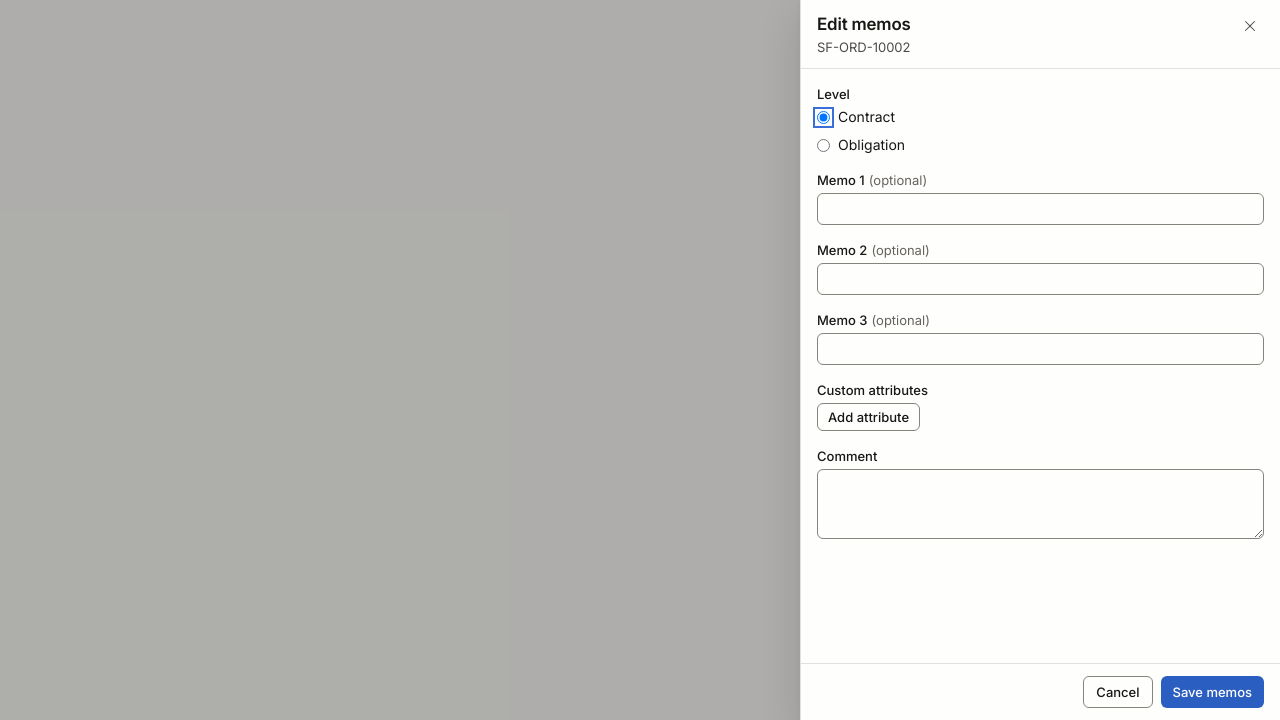
Test case: SF-03 Edit memos under a refused command › after a 412 the banner says that the record changed, in place of the problem
Type "Region added for the segment report." into the text box labelled "Comment" at [1040, 504], box [817,469,1264,539]
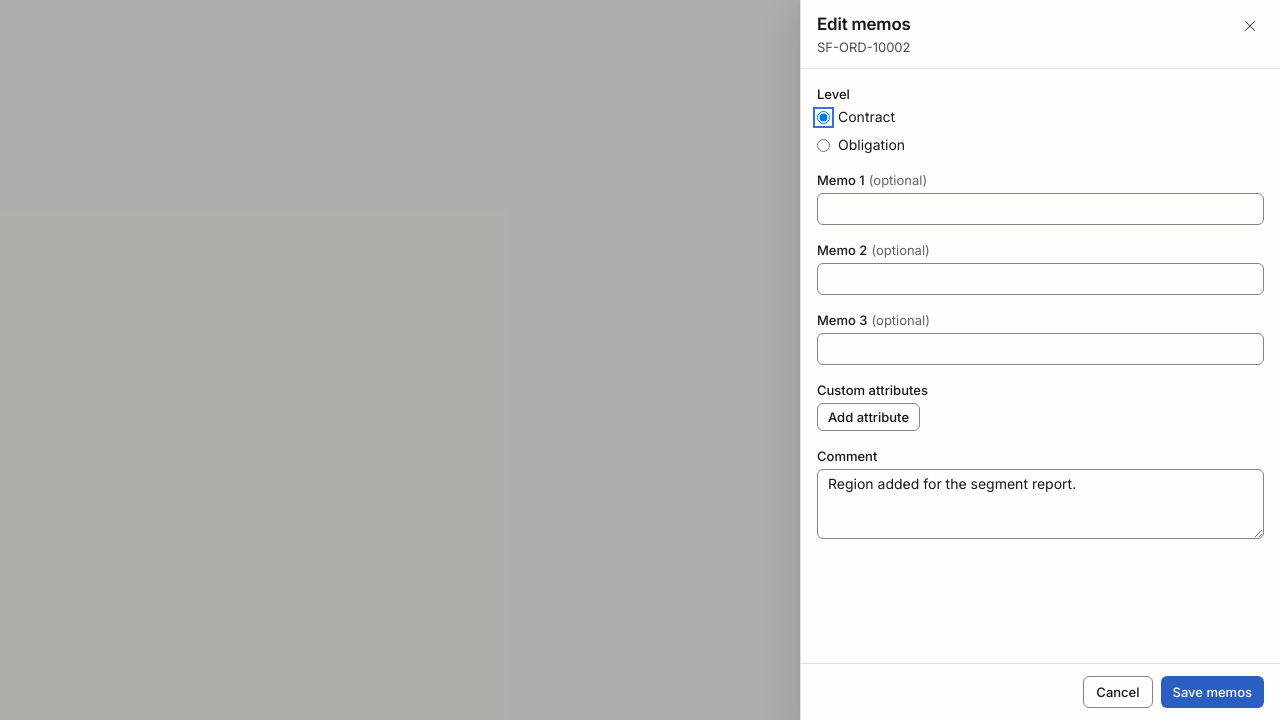
Click the button "Save memos" at [1212, 692], box [1160,676,1264,708]
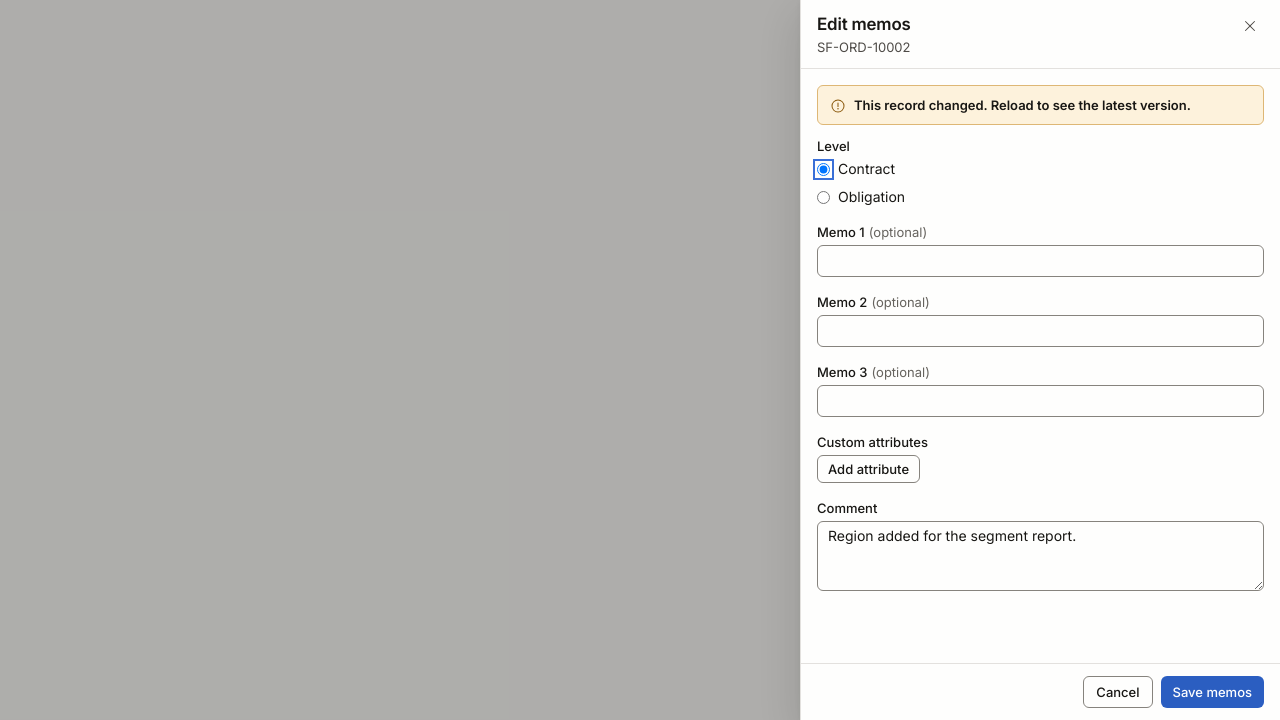
Now the heading "This record changed. Reload to see the latest version." is shown, box [854,97,1191,113]
